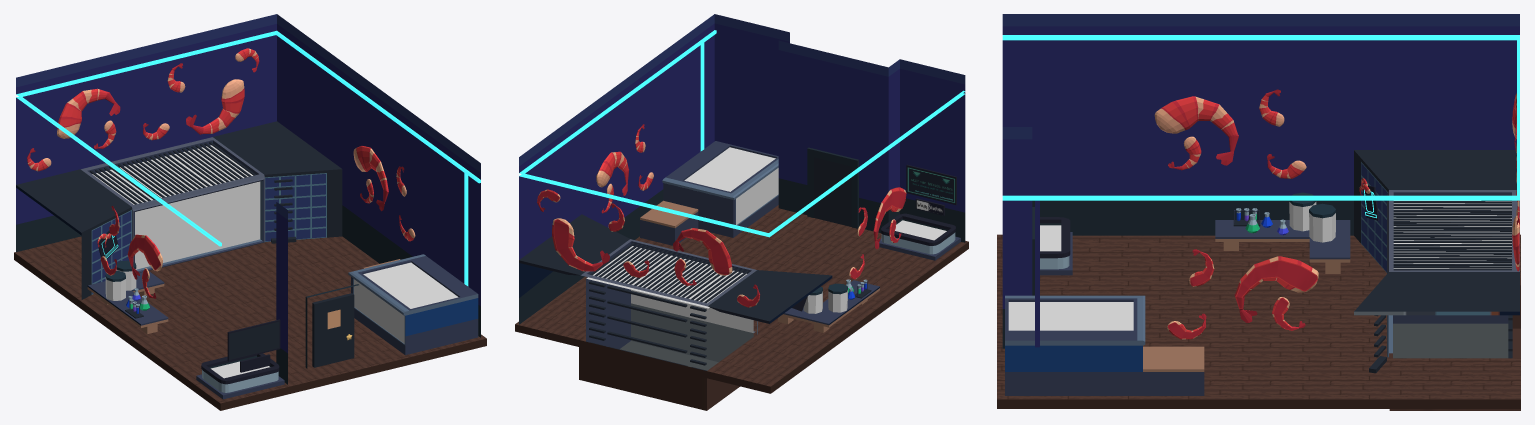
Rendered from INT_RiverWyrms.fbx.
3 renders of one model, left to right at view 1: azimuth 30°, elevation 25°; view 2: azimuth 150°, elevation 25°; view 3: azimuth 270°, elevation 25°, orthographic. The views are drawn at different scales.
Parts seen in each view (by area): view 1: Walls.006, Floor.003, Tank, Grates.003, ShrimpCup, WashStation.001, Cube.136, Counter, ShrimpSign.013, ShrimpSign.005, ShrimpSign.001, ShrimpSign.009 (+1 smaller); view 2: Walls.006, Floor.003, Tank, Grates.003, WashStation.001, ShrimpCup, Cube.136, Counter, Grates.002, ShrimpSign.013, ShrimpSign.005, ShrimpSign.001 (+4 smaller); view 3: Walls.006, Floor.003, Tank, Grates.003, Counter, ShrimpSign.009, ShrimpSign.001, WashStation.001, CircularJar.001, CircularJar, Cube.146, ShrimpSign.004 (+6 smaller).
Boxes of the visible parts, <box> form: Walls.006: <box>16,14,480,384</box>; Floor.003: <box>14,236,486,410</box>; Tank: <box>348,254,478,355</box>; Grates.003: <box>90,142,255,204</box>; ShrimpCup: <box>312,293,354,367</box>; WashStation.001: <box>196,353,284,399</box>; Cube.136: <box>227,319,280,361</box>; Counter: <box>87,271,168,334</box>; ShrimpSign.013: <box>186,79,244,134</box>; ShrimpSign.005: <box>57,88,120,138</box>; ShrimpSign.001: <box>353,146,388,211</box>; ShrimpSign.009: <box>127,234,162,279</box>; Walls.006: <box>519,14,965,370</box>; Floor.003: <box>515,205,968,410</box>; Tank: <box>640,141,778,245</box>; Grates.003: <box>590,242,749,302</box>; WashStation.001: <box>879,213,960,260</box>; ShrimpCup: <box>813,157,851,226</box>; Cube.136: <box>906,164,956,204</box>; Counter: <box>778,280,879,332</box>; Grates.002: <box>607,285,687,366</box>; ShrimpSign.013: <box>552,218,609,271</box>; ShrimpSign.005: <box>673,228,732,275</box>; ShrimpSign.001: <box>596,151,628,195</box>; Walls.006: <box>1002,14,1519,358</box>; Floor.003: <box>997,234,1520,410</box>; Tank: <box>1005,295,1204,395</box>; Grates.003: <box>1393,195,1511,270</box>; Counter: <box>1215,220,1350,273</box>; ShrimpSign.009: <box>1154,96,1238,165</box>; ShrimpSign.001: <box>1234,256,1318,322</box>; WashStation.001: <box>1040,217,1072,275</box>; CircularJar.001: <box>1309,203,1335,242</box>; CircularJar: <box>1289,192,1316,231</box>; Cube.146: <box>1369,315,1386,373</box>; ShrimpSign.004: <box>1167,313,1206,339</box>.
Size of the model in its own units: 1281 by 993 by 1719.
